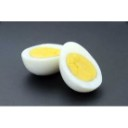begg: (61, 42, 102, 90), (21, 46, 58, 74)
